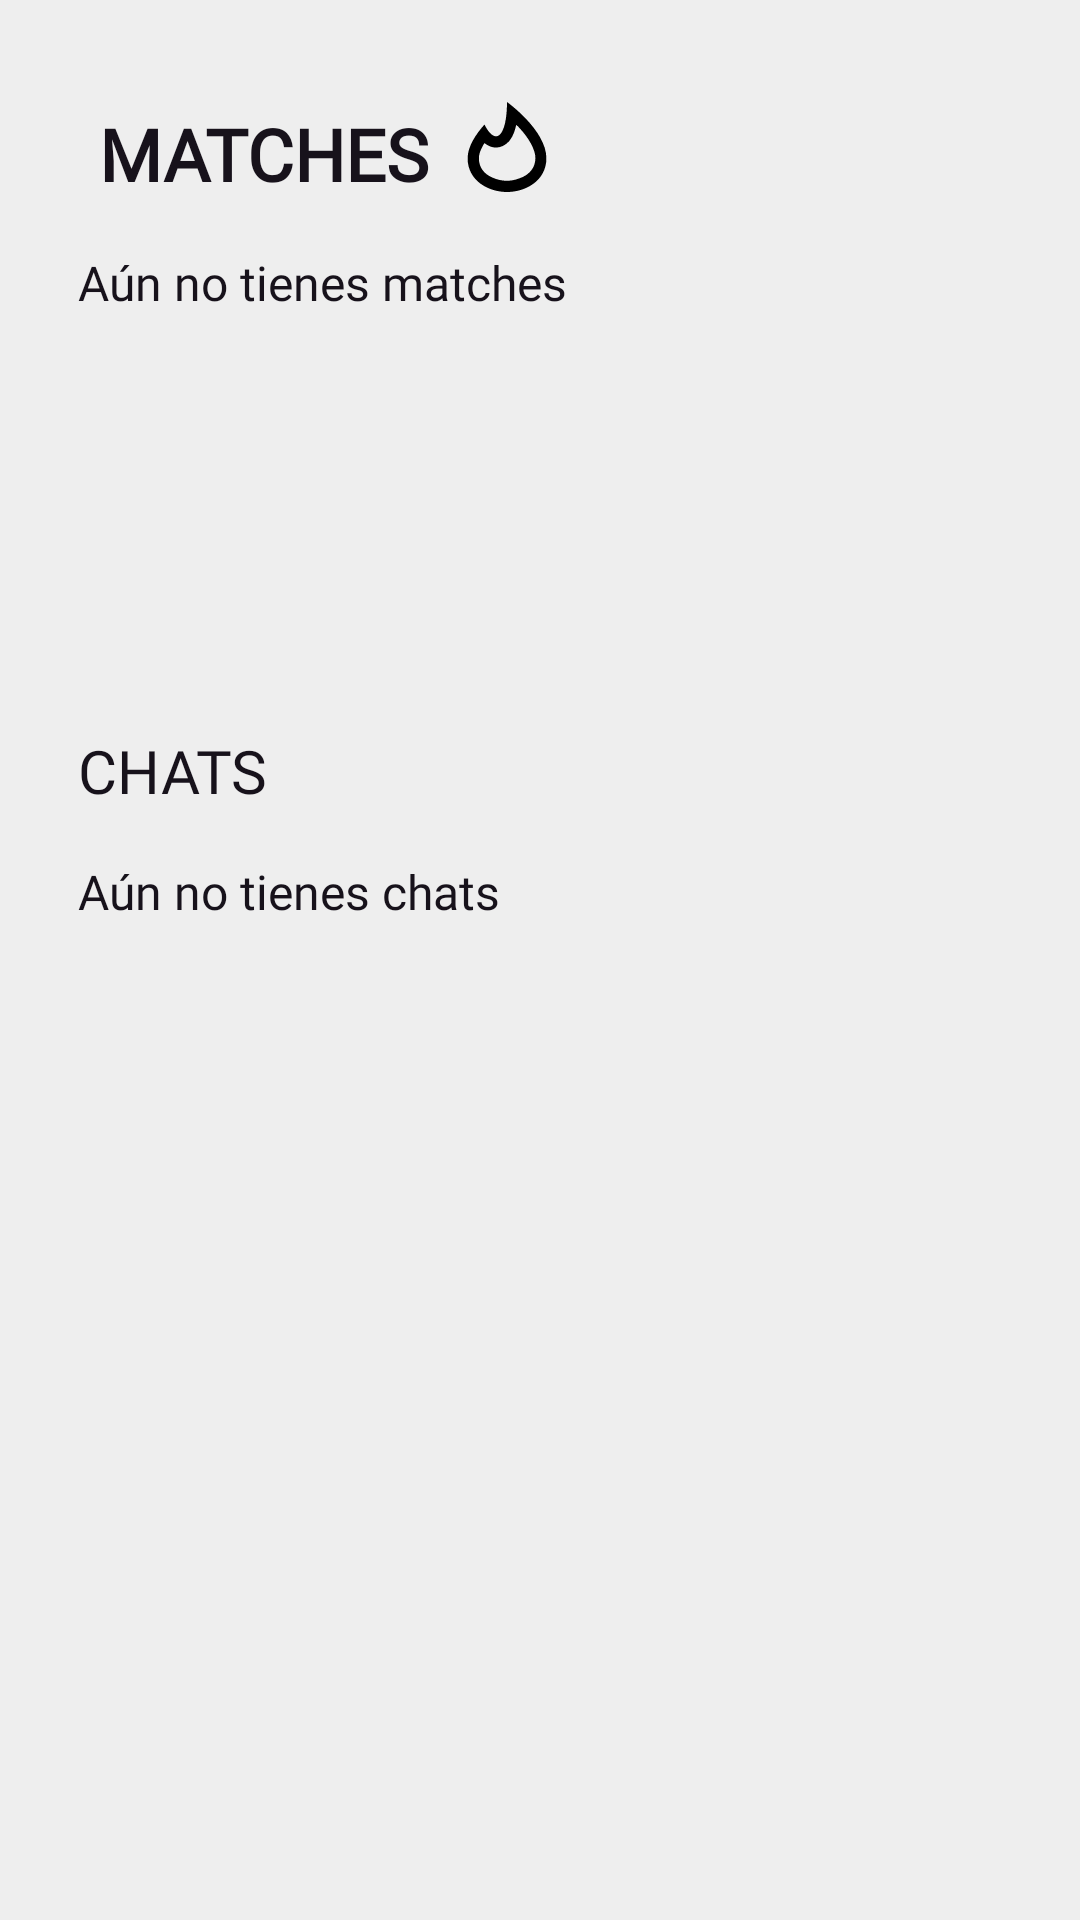

Icon bounding boxes for this 1080w x 1920h phone screenshot, format box=[x1, y1, x2, y2]:
flame: box=[467, 102, 547, 192]
